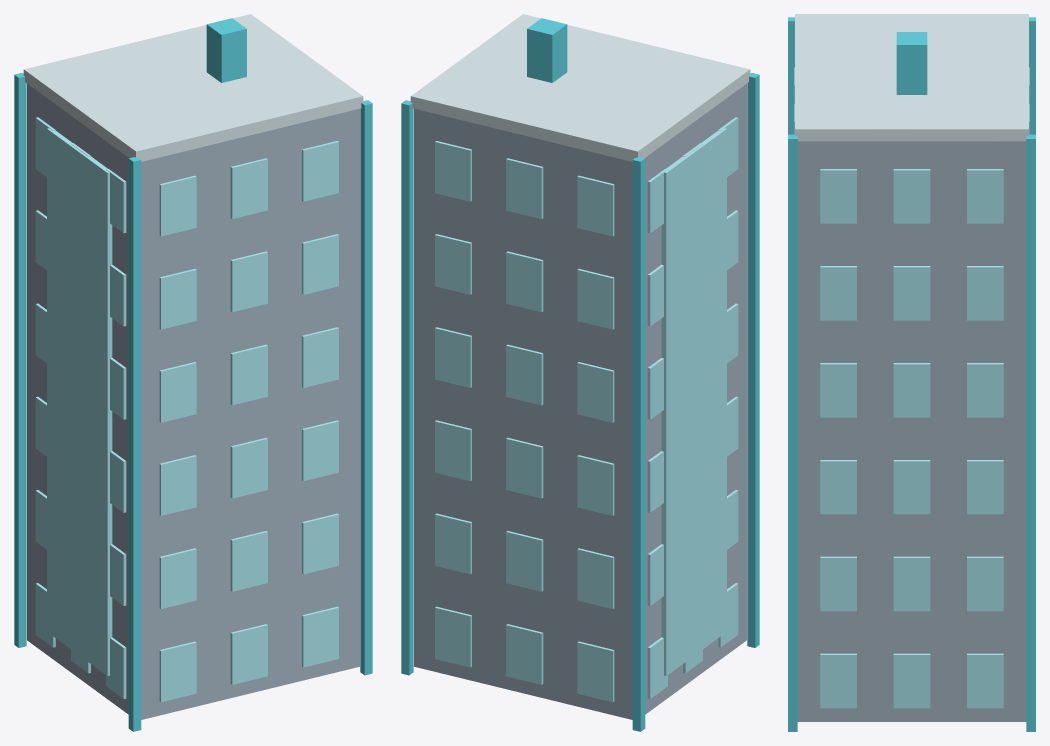
File: ship_port_b.glb
The picture shows the model from 3 angles, left to right: view 1: azimuth 30°, elevation 25°; view 2: azimuth 150°, elevation 25°; view 3: azimuth 270°, elevation 25°; orthographic projection. The views are drawn at different scales.
Bounding box in the file's own units: 7.53 × 18.77 × 6.49.
